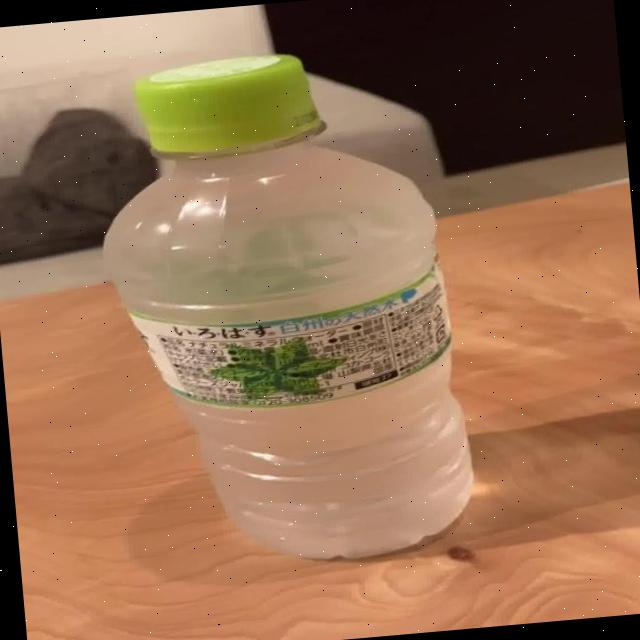bottle: (82, 36, 484, 578)
cap: (134, 49, 331, 172)
label: (120, 283, 494, 419)
